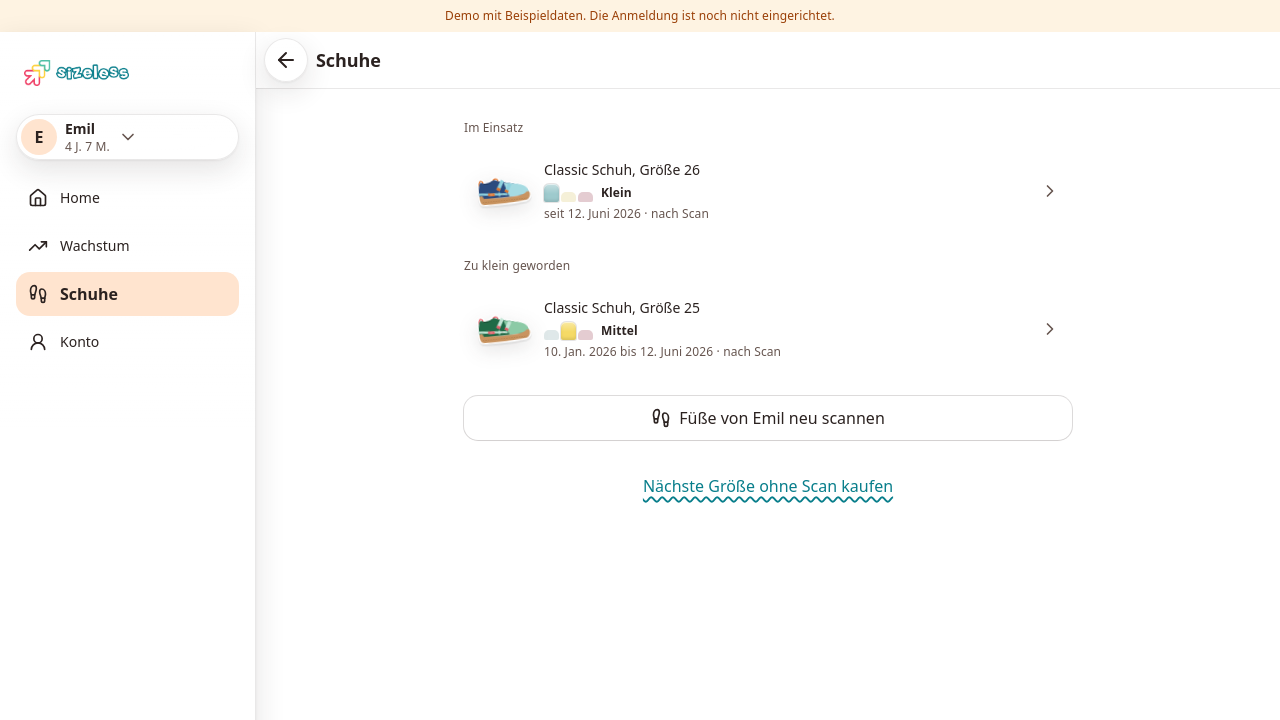
Test: Shoes (S16) › shows an outgrown pair with its dates, no rescan prompt while a newer pair is in use, no "buy again"
The width and height of the screenshot is (1280, 720).
Click the link "Größe 25".
click(504, 329)  # box [464,286,1072,372]
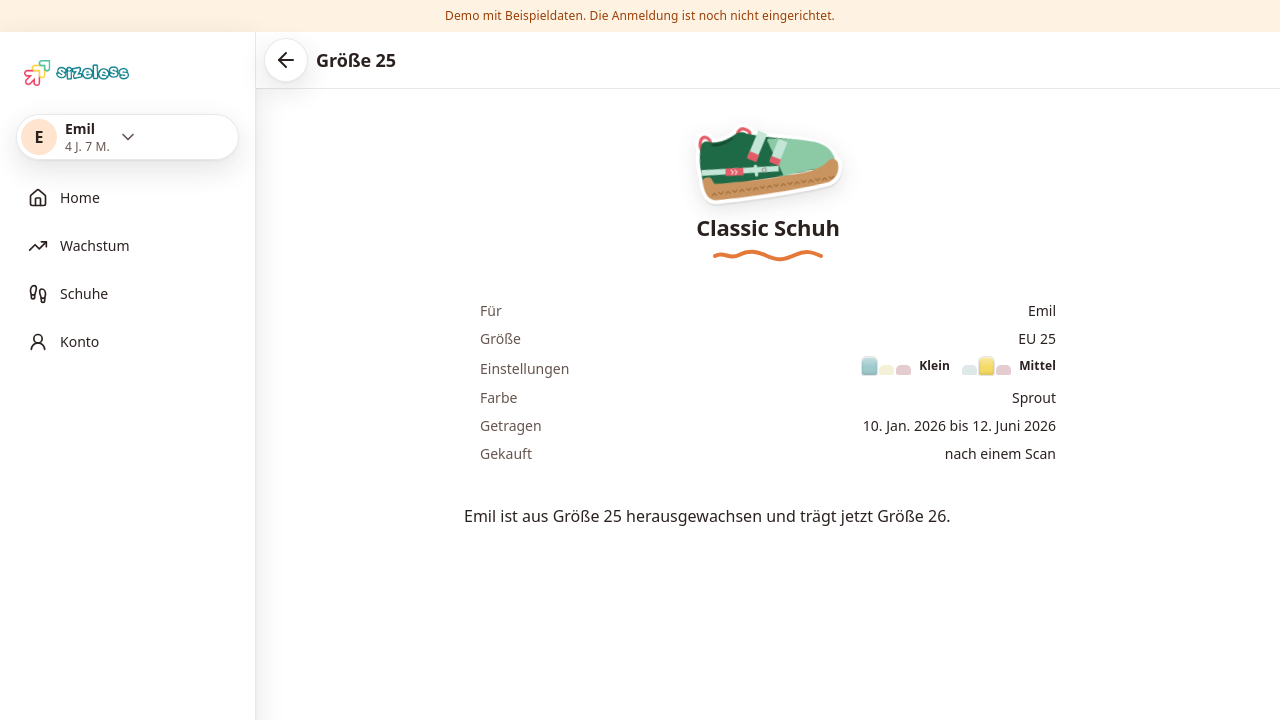
Result: the text "trägt jetzt Größe 26" is shown at [464,505,951,527]
